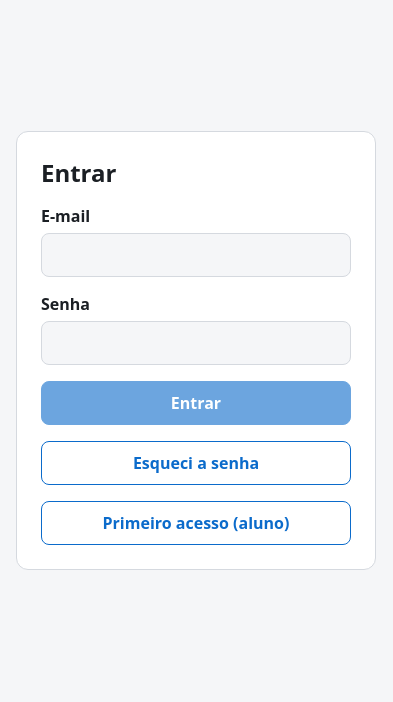
Test: primeiro acesso do aluno (ADR 0039) › pede o código com o CPF só com os números, cria a senha e volta ao login com o aviso
Click the button "Primeiro acesso (aluno)" at (196, 522), box [41,500,351,544]
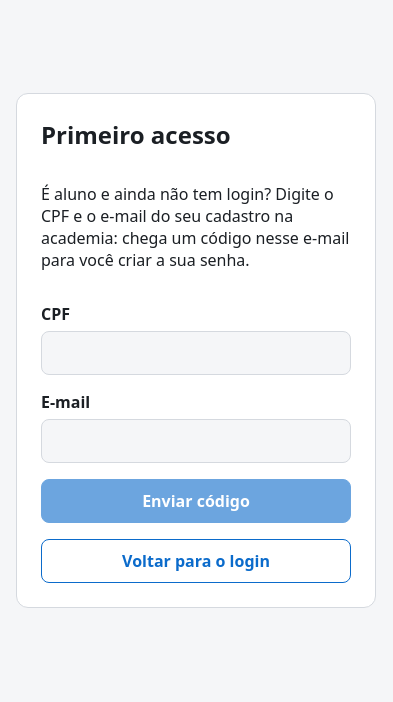
Type "529.982.247-25" into the field labelled "CPF" at (196, 352), box [41,330,351,374]
Type "ana@academia.com" into the field labelled "E-mail" at (196, 440), box [41,418,351,462]
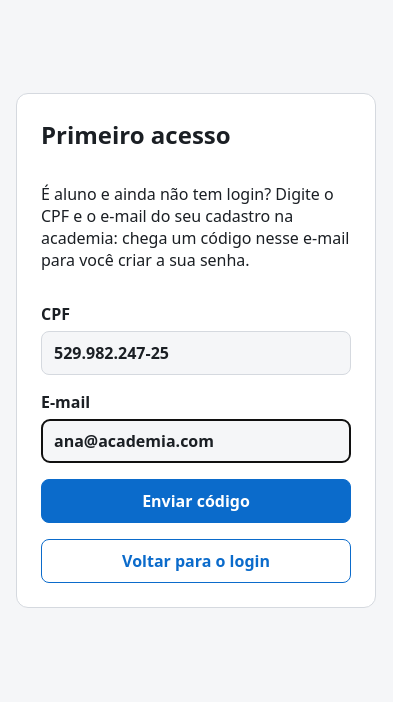
Click the button "Enviar código" at (196, 500), box [41,478,351,522]
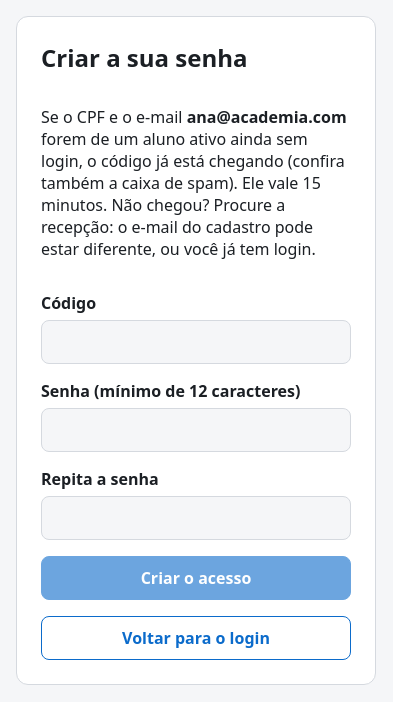
Now the heading "Criar a sua senha" is shown, box [41,40,248,74]
Now the text "aluno ativo ainda sem login" is shown, box [41,128,345,260]
Type "12a3456" into the field labelled "Código" at (196, 342), box [41,320,351,364]
Type "senha-do-aluno-123" into the password field labelled "Senha (mínimo de 12 caracteres)" at (196, 430), box [41,408,351,452]
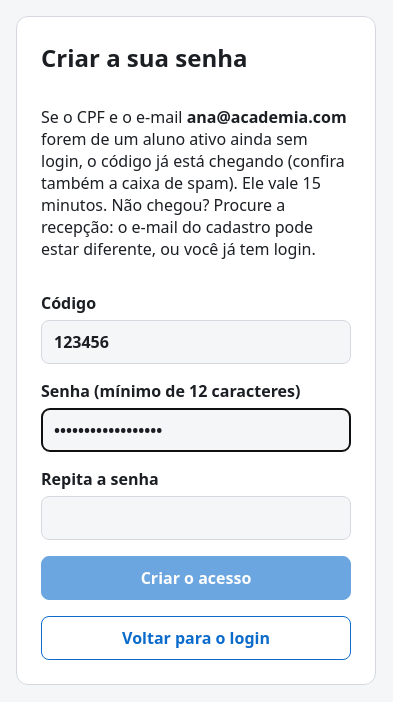
Type "senha-do-aluno-123" into the password field labelled "Repita a senha" at (196, 518), box [41,496,351,540]
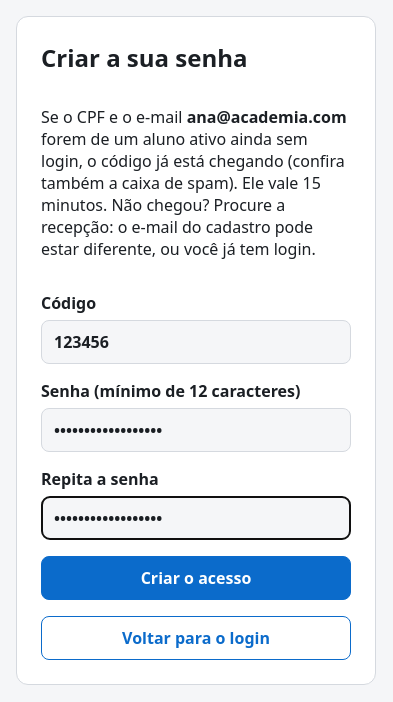
Click the button "Criar o acesso" at (196, 578), box [41,556,351,600]
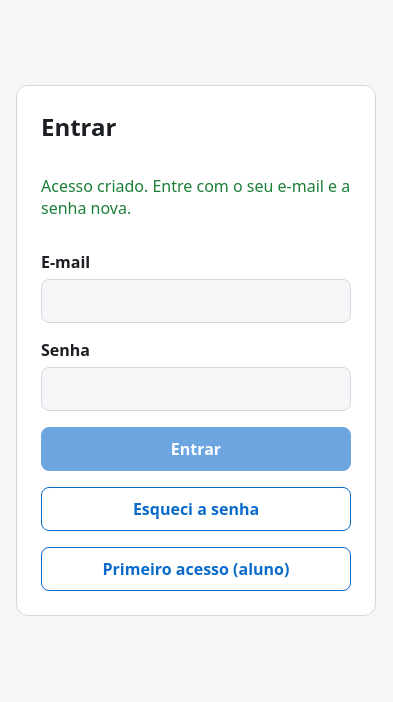
Now the text "Acesso criado. Entre com o seu e-mail e a senha nova." is shown, box [41,174,351,218]
Now the heading "Entrar" is shown, box [41,110,116,142]
